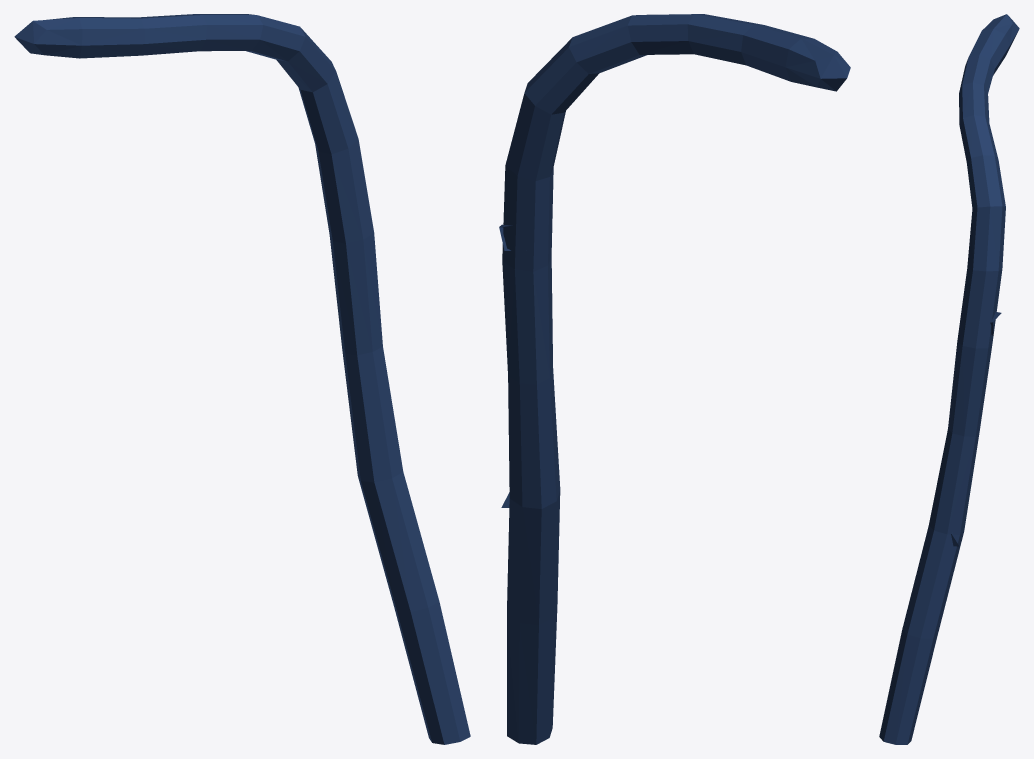
Rendered from Vena Hemiácigos.FBX.
3 views of the same model, side by side, from view 1: azimuth 30°, elevation 25°; view 2: azimuth 150°, elevation 25°; view 3: azimuth 270°, elevation 25° (orthographic). The views are drawn at different scales.
Visible parts, largest first — view 1: CS_Veins; view 2: CS_Veins; view 3: CS_Veins.
Part boxes in pixels (<box>): CS_Veins: <box>14,14,470,744</box>; CS_Veins: <box>499,14,850,744</box>; CS_Veins: <box>879,14,1019,744</box>.
Size of the model in its own units: 151 by 287 by 61.45.
